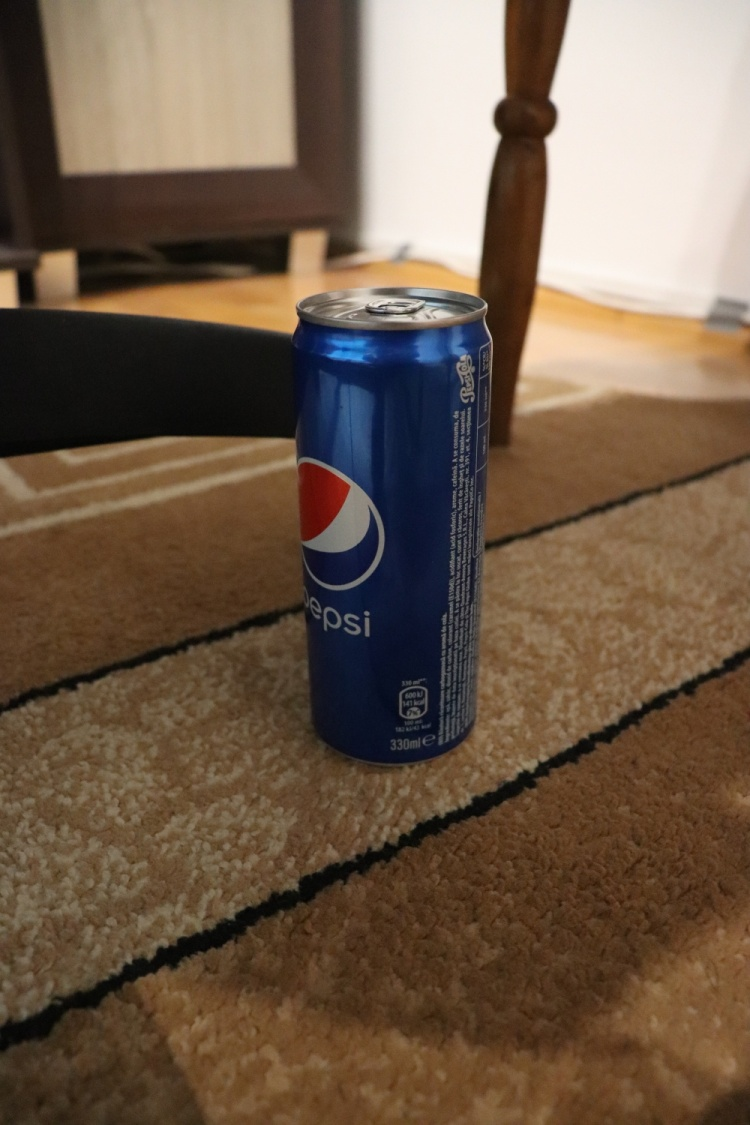pepsi: (289, 283, 496, 768)
